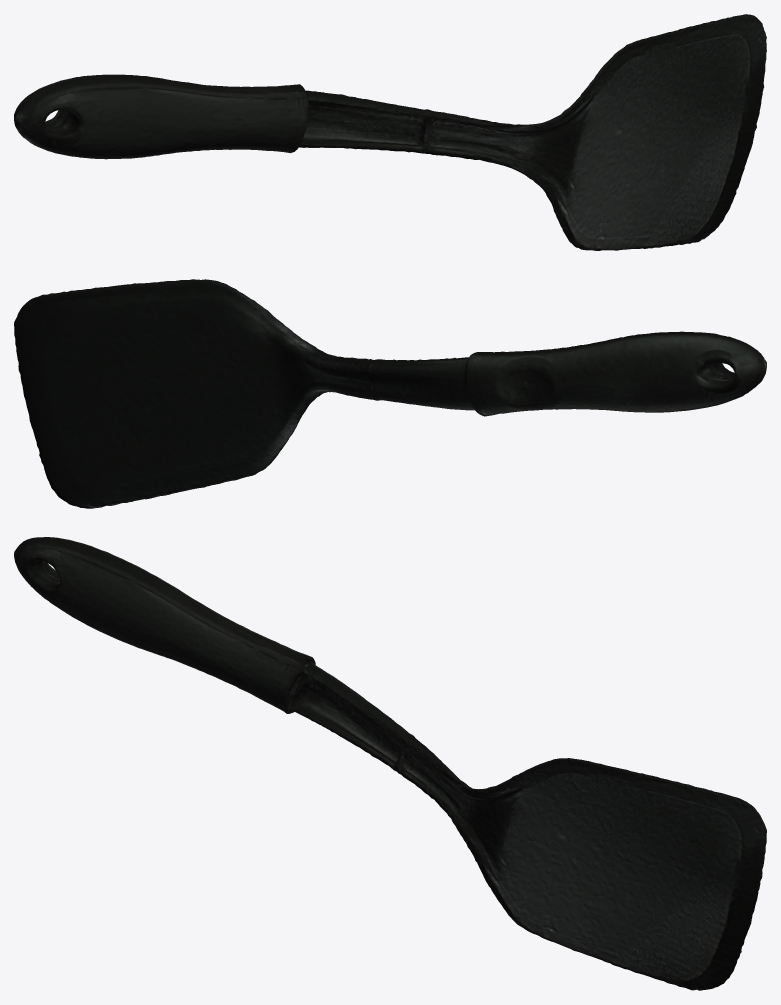
The picture shows the model from 3 angles, top to bottom: view 1: azimuth 30°, elevation 25°; view 2: azimuth 150°, elevation 25°; view 3: azimuth 330°, elevation 25°; orthographic projection. The views are drawn at different scales.
Visible parts, largest first — view 1: node; view 2: node; view 3: node.
Part boxes in pixels (x1,y1,x2,y2): node: [14, 14, 766, 250]; node: [14, 279, 766, 508]; node: [14, 537, 766, 990].
Size of the model in its own units: 0.3055 by 0.1246 by 0.0329.
Materials: 1 (1 with a texture image).
